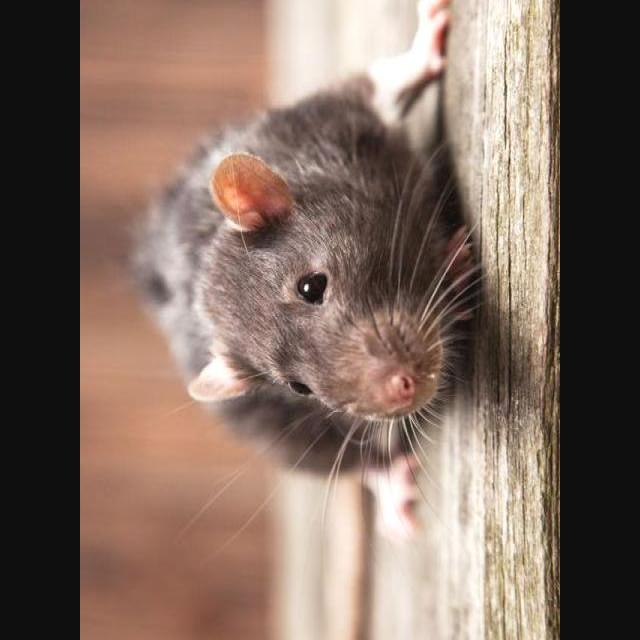rat: (127, 0, 469, 640)
